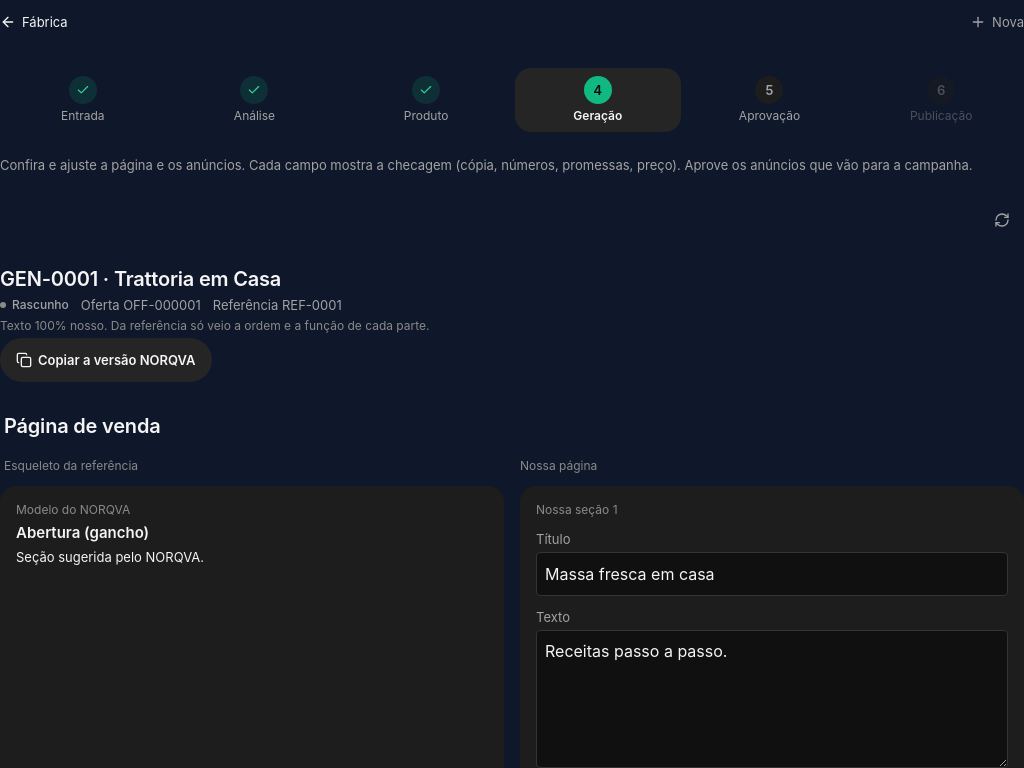
Test: NORQVA-0118 — revisão: travas e retomada › passo 3 sem a referência (lixeira): aviso e botão de voltar, nunca tela em branco
The image size is (1024, 768).
Click the button with test id "factory-step-3".
click(426, 100)  # box [343, 68, 509, 132]
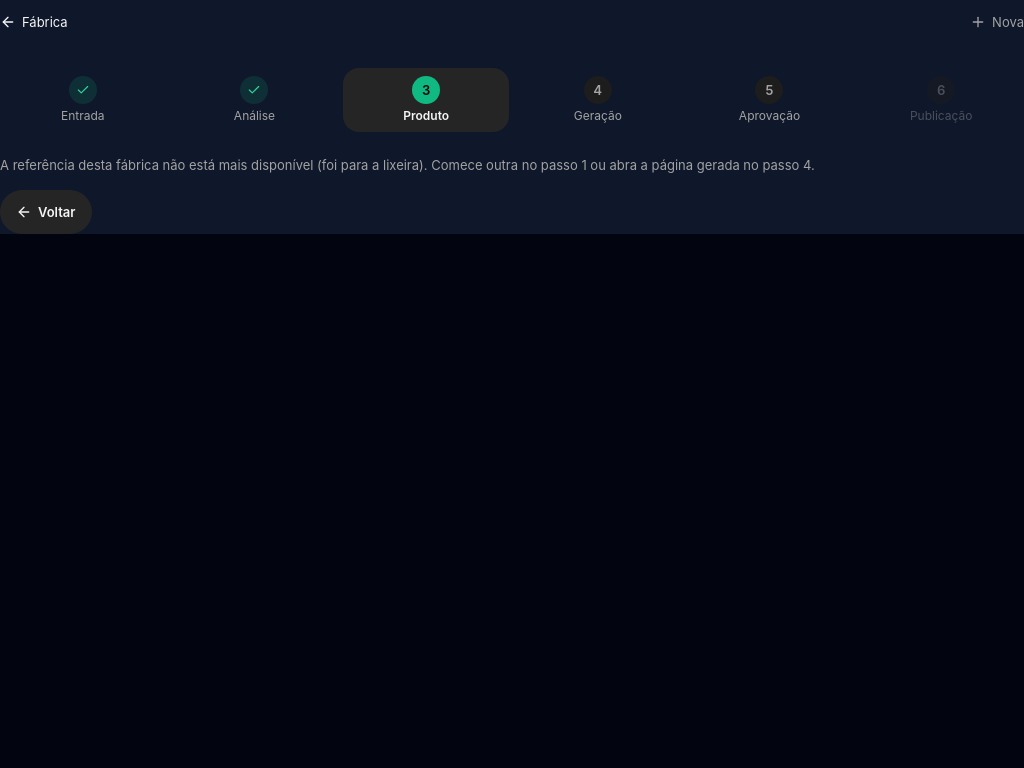
Expected: the button "Voltar" is shown, [0, 190, 92, 234]
Expected: the element with test id "factory-no-ref" is shown, [0, 157, 815, 234]
